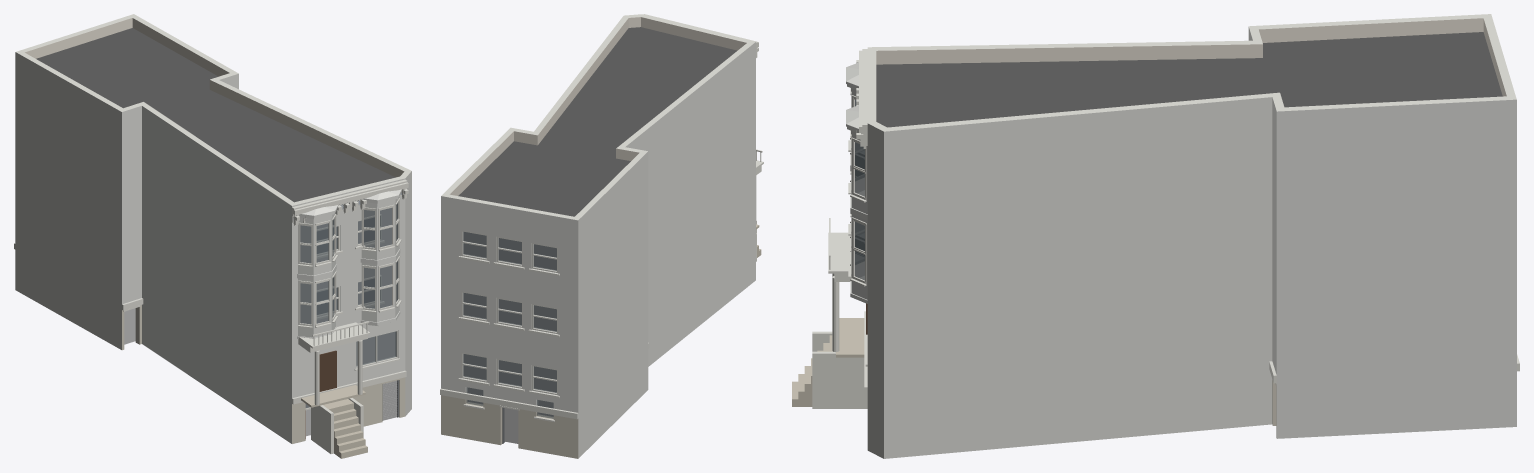
Rendered from exterior.glb.
The picture shows the model from 3 angles, left to right: view 1: azimuth 30°, elevation 25°; view 2: azimuth 150°, elevation 25°; view 3: azimuth 270°, elevation 25°; orthographic projection. The views are drawn at different scales.
Visible parts, largest first — view 1: shell, roof, bay-glazing-hyb, hand-ornament, shadow-proxy, bay-windows-hyb, trim, glazing, frames, storefront; view 2: shell, roof, glazing, shadow-proxy, frames, trim; view 3: shell, roof, hand-ornament, bay-windows-hyb, bay-glazing-hyb, trim.
Boxes of the visible parts, box(x1,y1,x2,y2) form: shell: box(15, 14, 411, 443); roof: box(36, 28, 395, 202); bay-glazing-hyb: box(298, 198, 401, 328); hand-ornament: box(298, 321, 370, 458); shadow-proxy: box(124, 208, 394, 436); bay-windows-hyb: box(297, 189, 401, 338); trim: box(14, 179, 408, 404); glazing: box(305, 218, 396, 408); frames: box(317, 214, 398, 368); storefront: box(123, 305, 398, 438); shell: box(441, 14, 755, 458); roof: box(458, 27, 736, 216); glazing: box(463, 232, 556, 418); shadow-proxy: box(464, 232, 556, 443); frames: box(461, 230, 557, 395); trim: box(440, 14, 758, 421); shell: box(867, 14, 1516, 458); roof: box(876, 32, 1502, 127); hand-ornament: box(792, 218, 867, 408); bay-windows-hyb: box(846, 62, 867, 303); bay-glazing-hyb: box(848, 88, 866, 286); trim: box(859, 49, 1519, 394).
Size of the model in its own units: 10.64 by 13.78 by 27.78.
